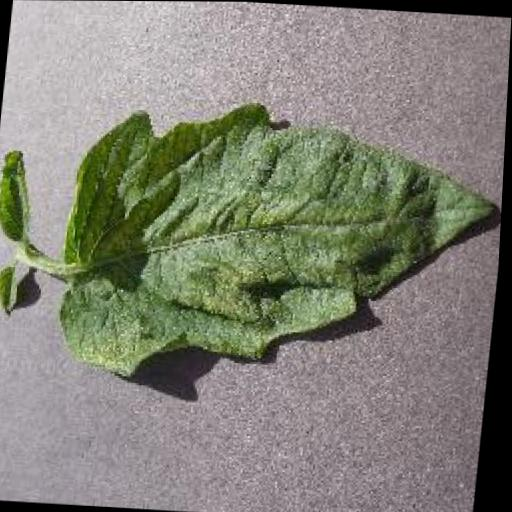Spider Mites: (57, 94, 505, 394)
